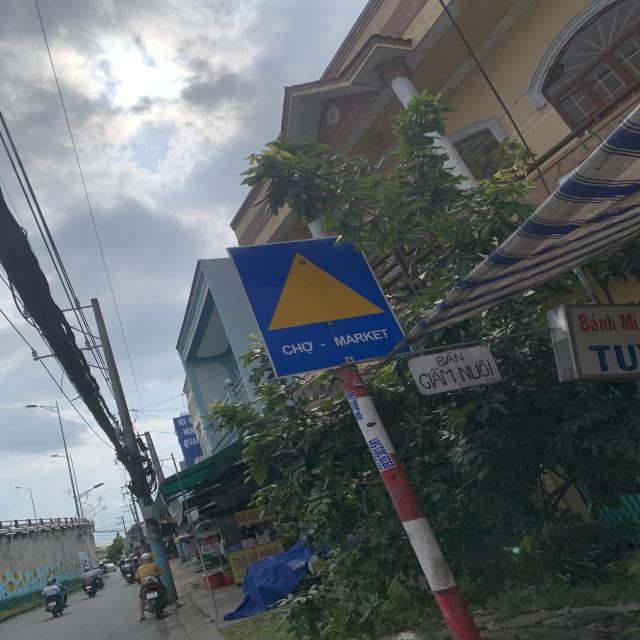Cho_Quay_Xe: (231, 240, 406, 373)
